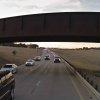Bus: (2, 67, 16, 98)
